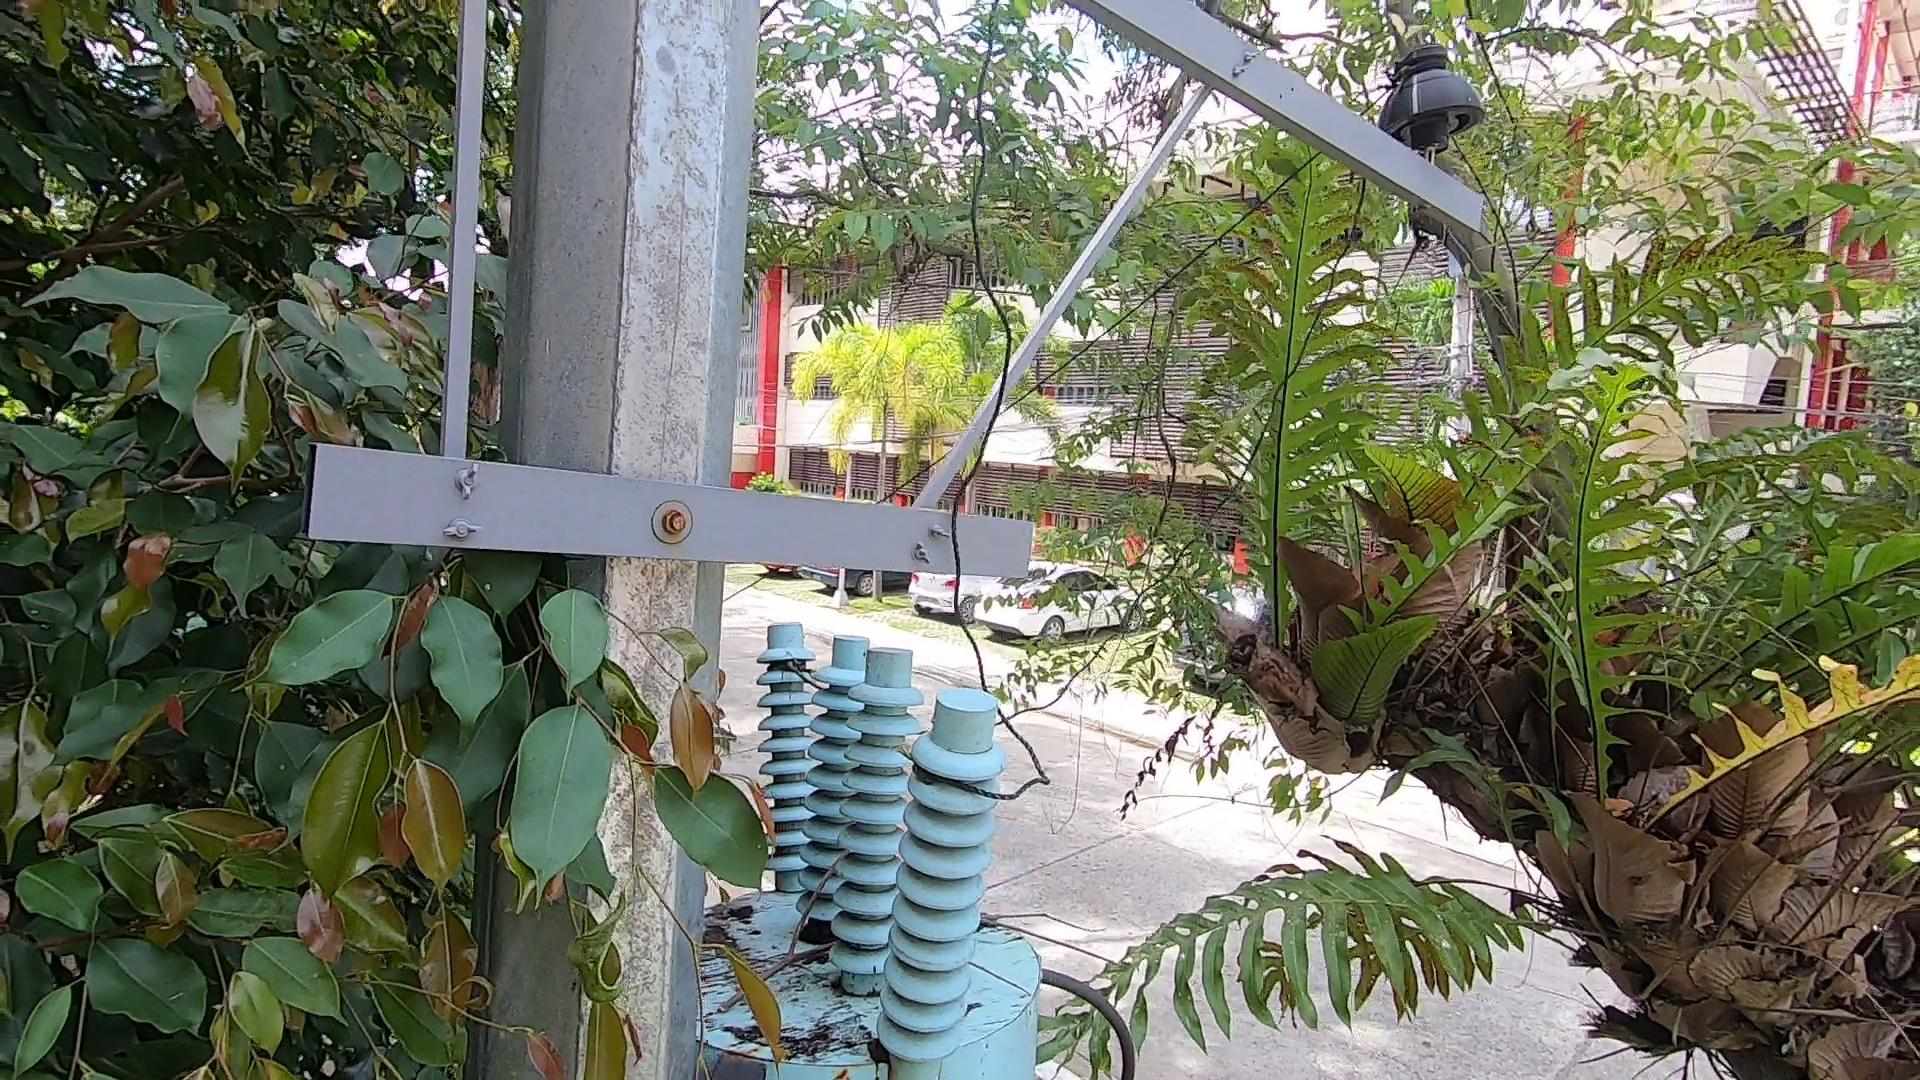branch with leaves: (378, 556, 790, 1077)
leaf: (705, 889, 761, 957), (858, 1027, 894, 1073)
tree branch: (695, 907, 1124, 989)
